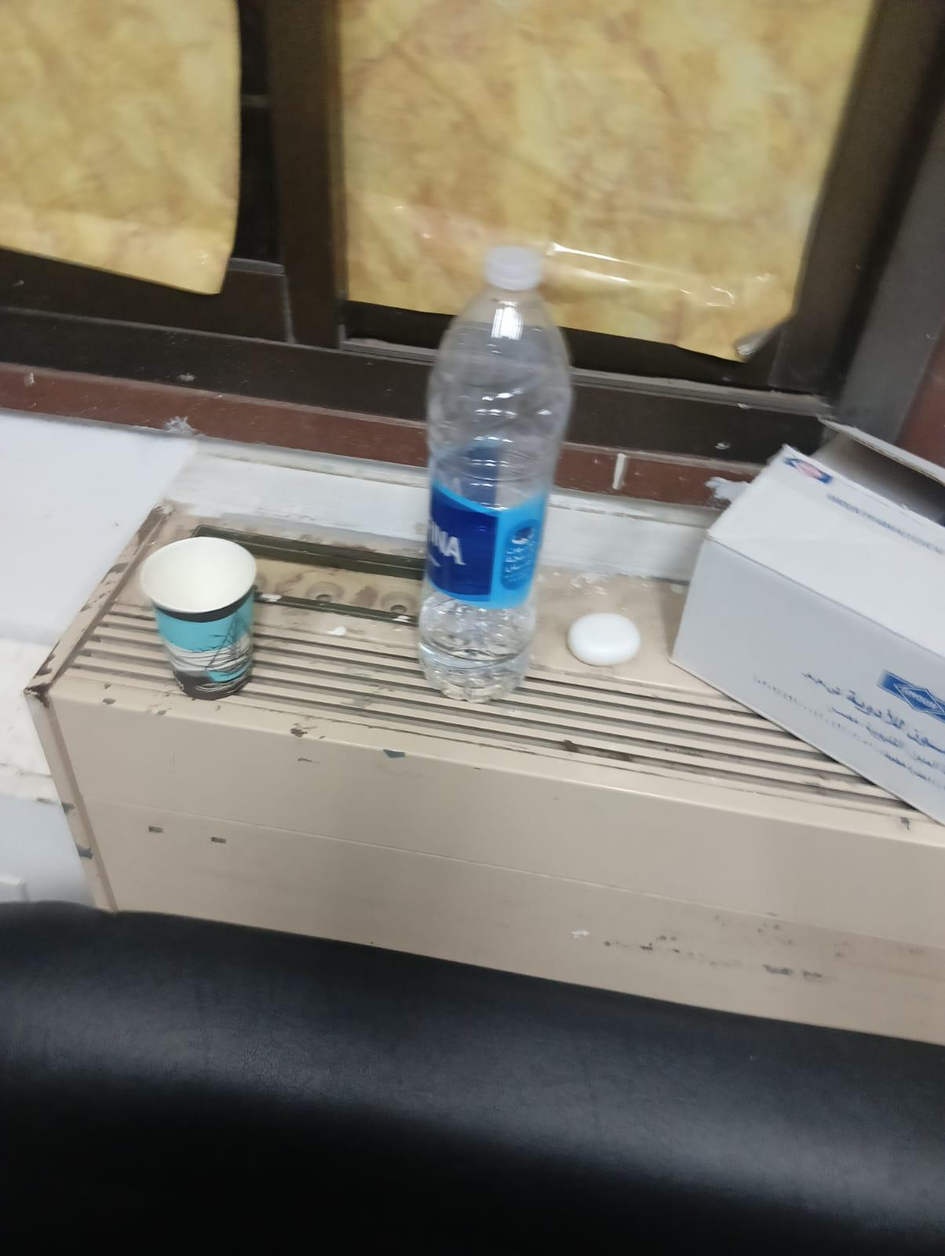cup: (140, 537, 256, 699), (141, 538, 255, 612)
